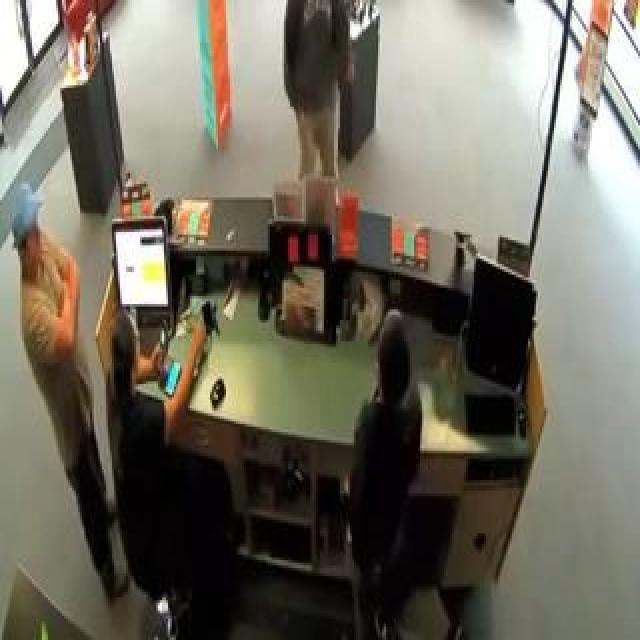low_con: (8, 187, 52, 277)
no_con: (375, 305, 411, 411), (104, 310, 142, 396)
